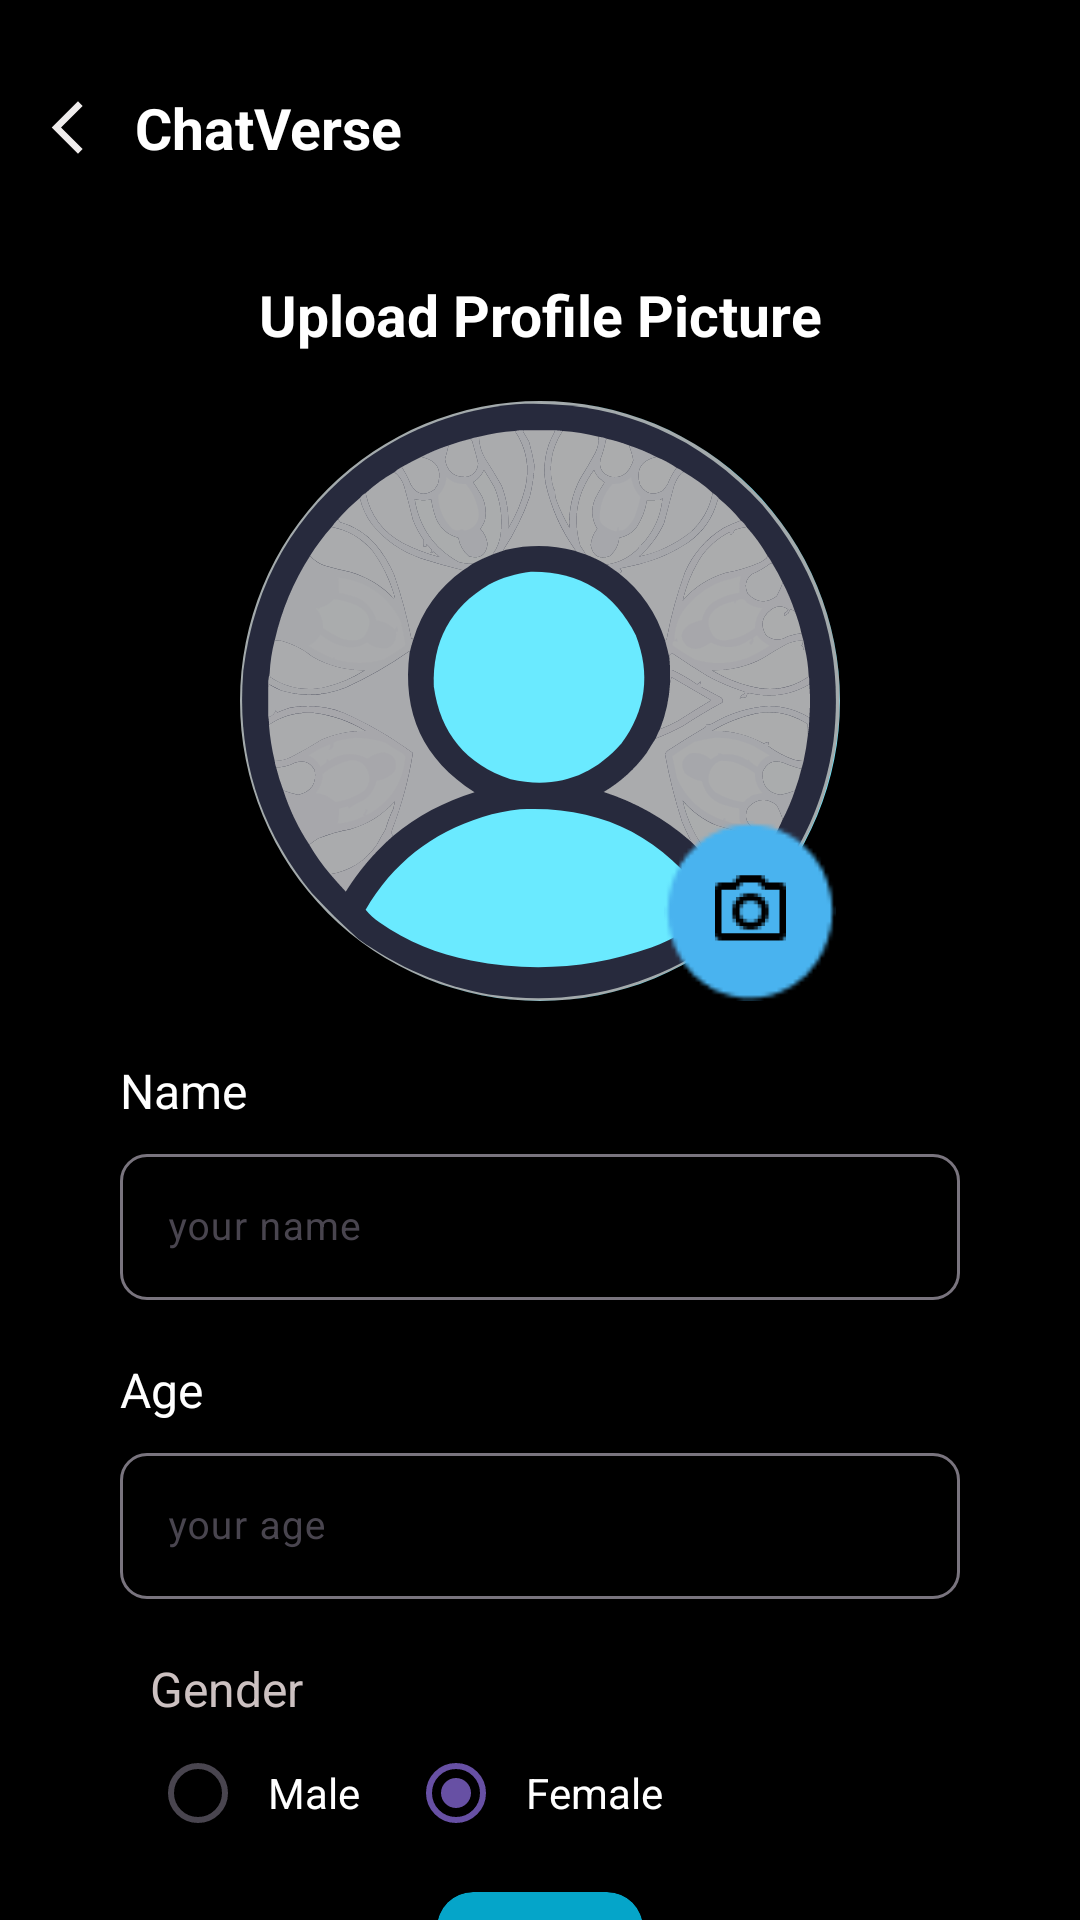

Icon click points for this 1080×1920 phone screenshot, format point (x, y):
arrow back: point (67, 127)
